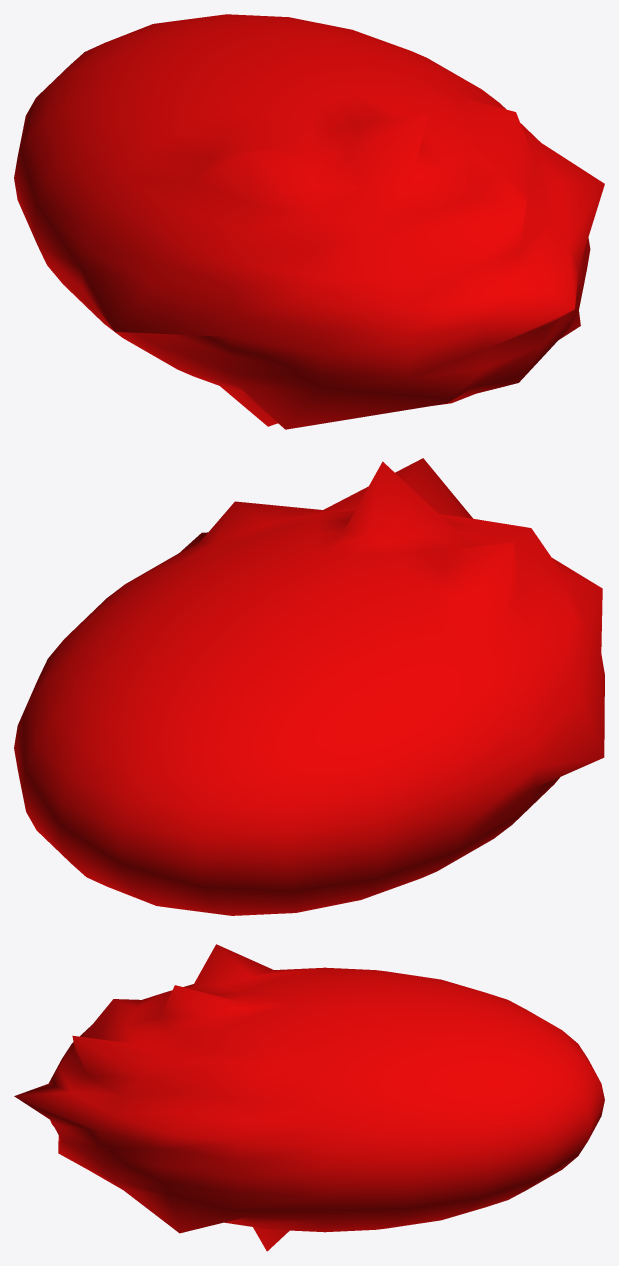
The model's file is Sea Squirt.fbx.
The picture shows the model from 3 angles, top to bottom: view 1: azimuth 30°, elevation 25°; view 2: azimuth 150°, elevation 25°; view 3: azimuth 270°, elevation 25°; orthographic projection. The views are drawn at different scales.
Visible parts, largest first — view 1: pSphere61; view 2: pSphere61; view 3: pSphere61.
Part boxes in pixels (bbox=[...]): pSphere61: bbox=[14, 14, 604, 429]; pSphere61: bbox=[14, 458, 604, 915]; pSphere61: bbox=[14, 944, 604, 1251].
Bounding box in the file's own units: 2.07 × 1.39 × 3.04.
